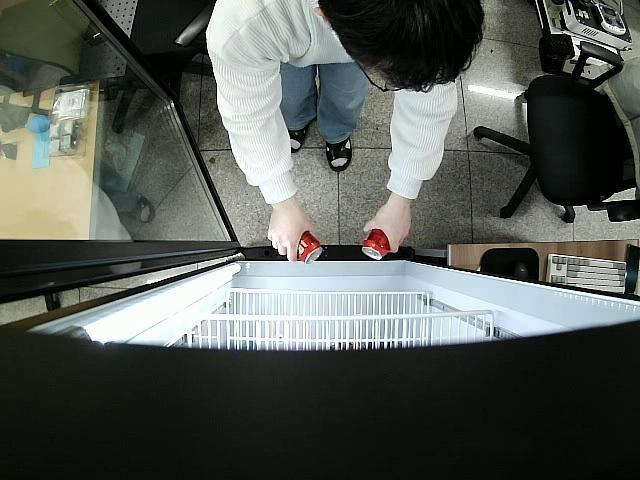11_cocaColaZero: (362, 226, 391, 260), (296, 230, 324, 264)
